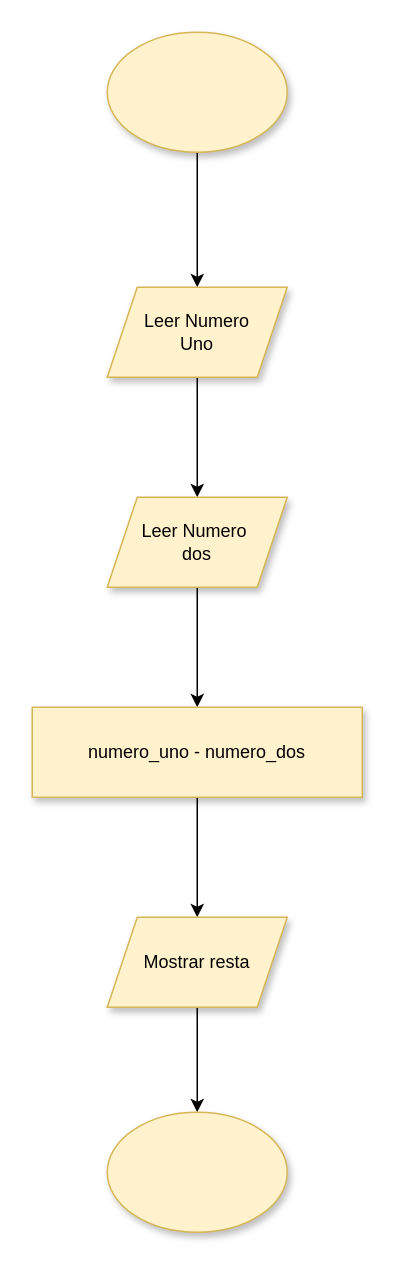
This 398x1269 diagram has some shape labels left out. Each missing label, with the centre of its shape:
Fin: (198,1174)
Inicio: (198,94)
